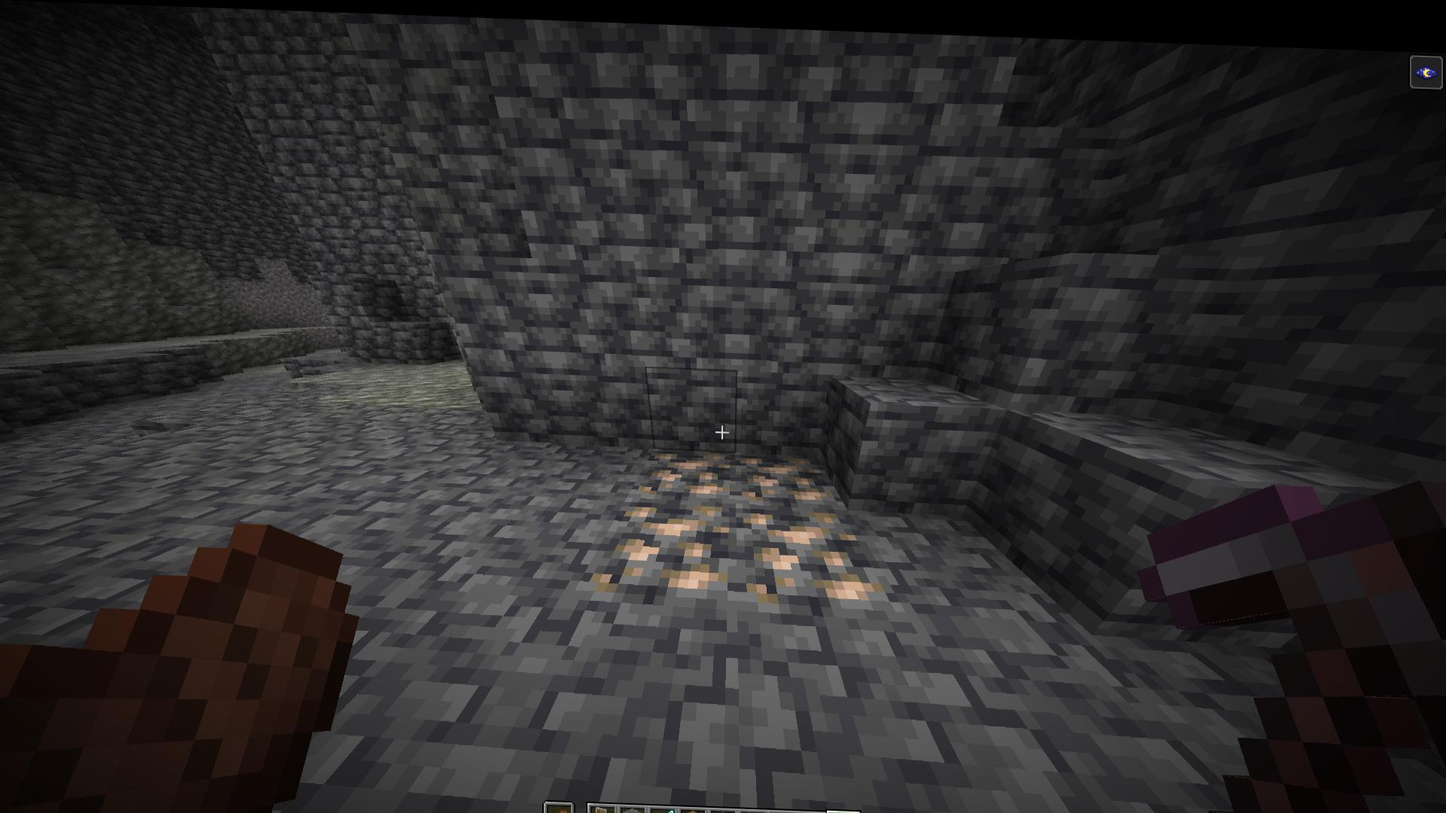iron ore: (736, 501, 888, 603), (597, 494, 729, 593), (737, 442, 836, 503), (640, 440, 733, 497)
